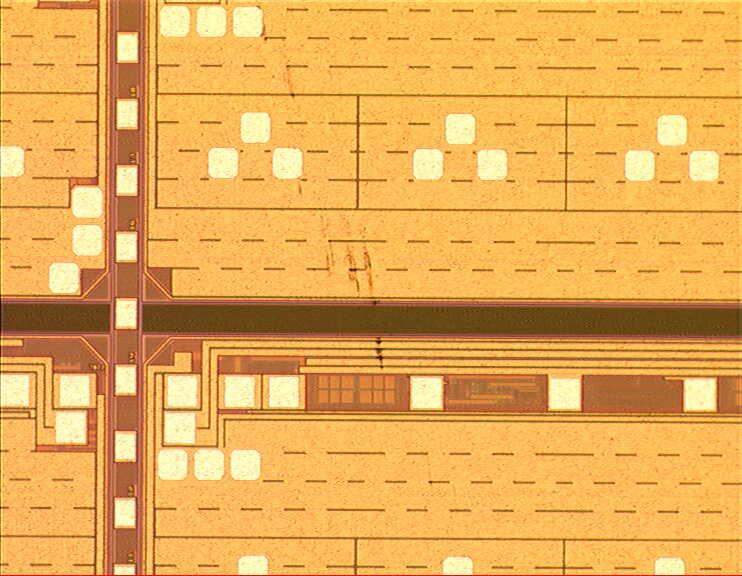SCRATCH: (267, 1, 394, 386)
